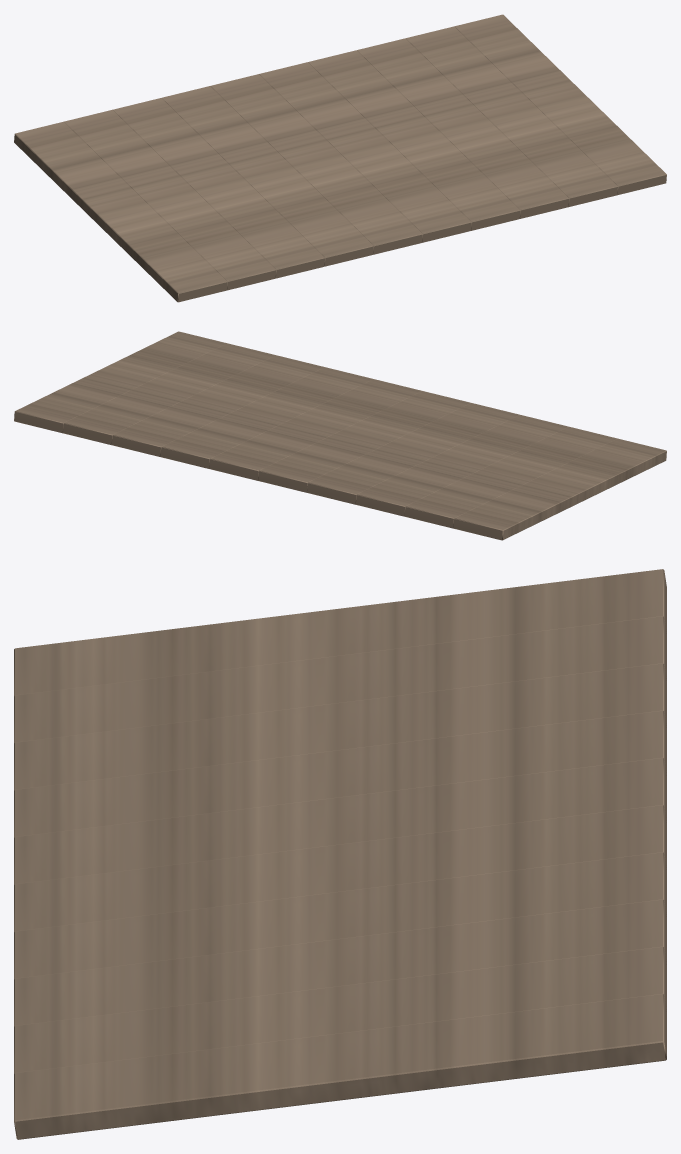
File: BW_Farmhouse01_PorchRoof.fbx
3 views of the same model, one above another, from view 1: azimuth 30°, elevation 25°; view 2: azimuth 150°, elevation 25°; view 3: azimuth 270°, elevation 25° (orthographic). The views are drawn at different scales.
Visible parts, largest first — view 1: BW_Farmhouse01_PorchRoof; view 2: BW_Farmhouse01_PorchRoof; view 3: BW_Farmhouse01_PorchRoof.
Boxes of the visible parts, x1,y1,x2,y2 form: BW_Farmhouse01_PorchRoof: [14, 14, 666, 302]; BW_Farmhouse01_PorchRoof: [14, 331, 666, 540]; BW_Farmhouse01_PorchRoof: [14, 569, 666, 1139].
Size of the model in its own units: 2.8 by 0.2737 by 1.64.
